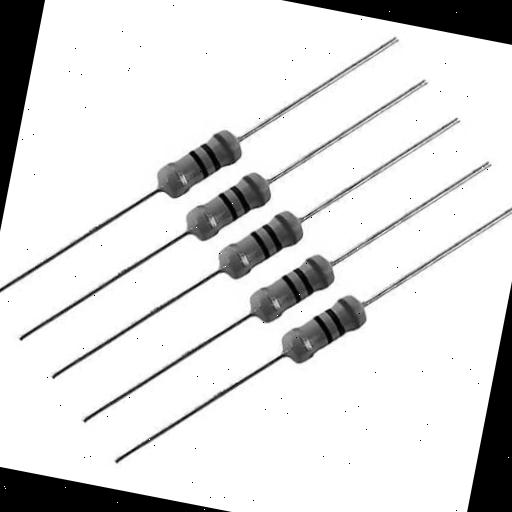RESISTOR: (66, 138, 482, 392), (92, 88, 286, 236), (270, 278, 429, 424), (162, 186, 330, 308), (228, 242, 361, 337), (169, 147, 293, 239)
